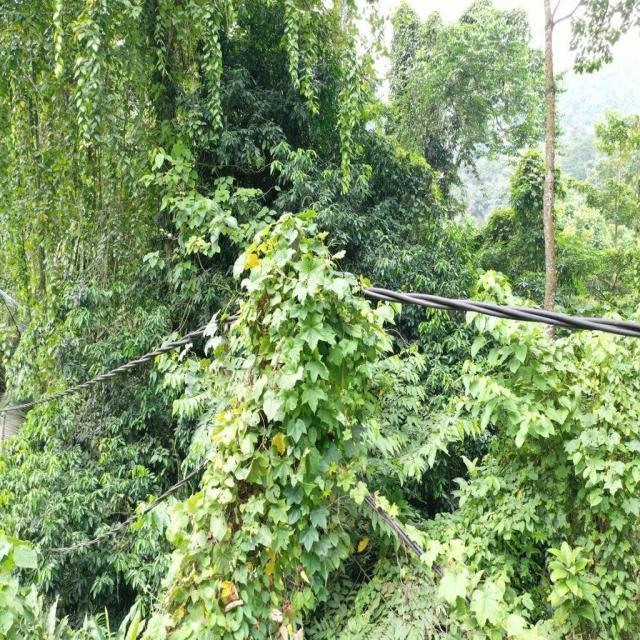critical vegetation: (208, 197, 410, 544)
